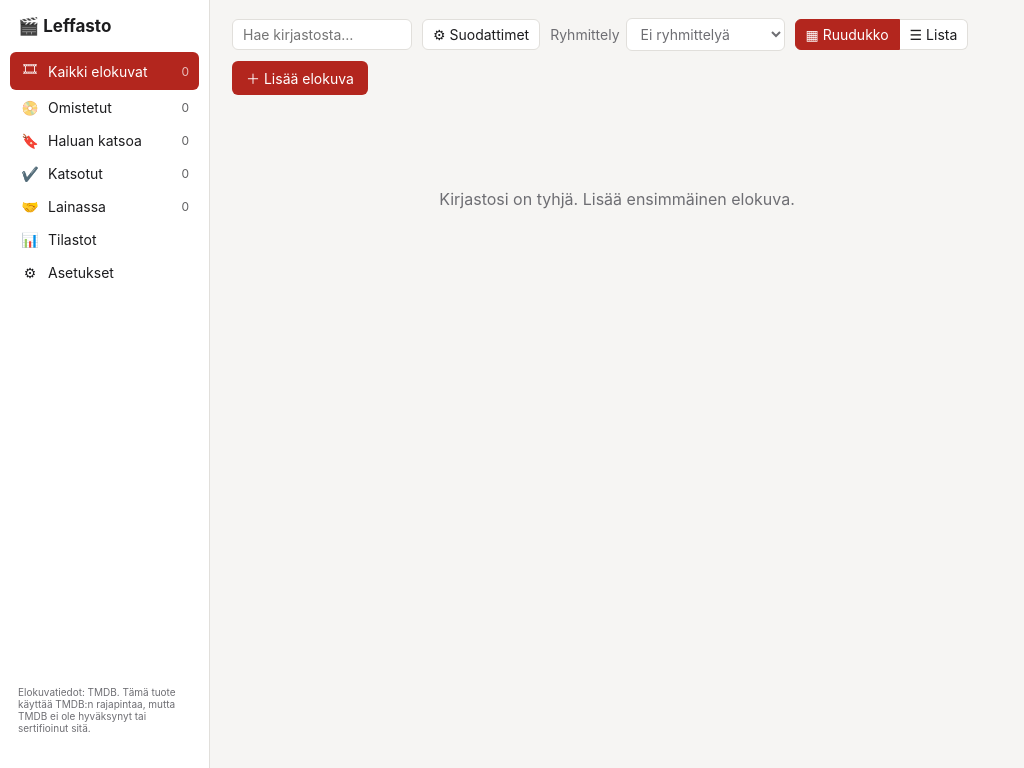
Test: Statistics page › renders in Finnish and shows an empty state for an empty library
The image size is (1024, 768).
Click the button "📊 Tilastot" at (104, 240), box [10,224,199,255]
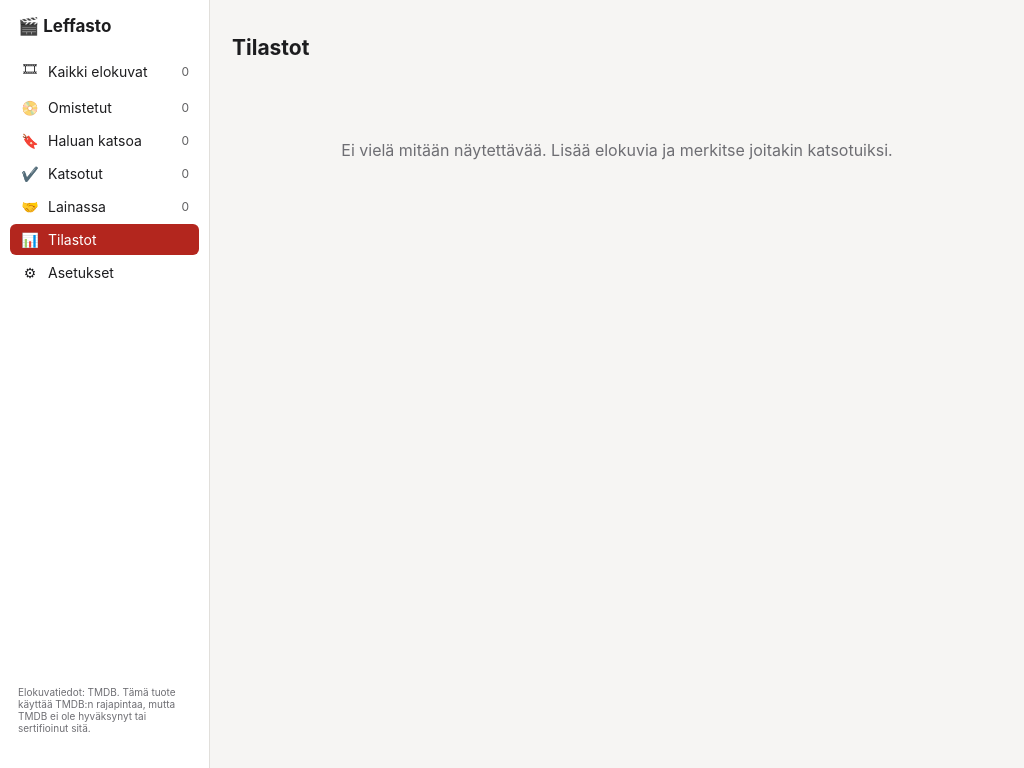
Expected: the text "Ei vielä mitään näytettävää. Lisää elokuvia ja merkitse joitakin katsotuiksi." is shown, [341,140,893,160]
